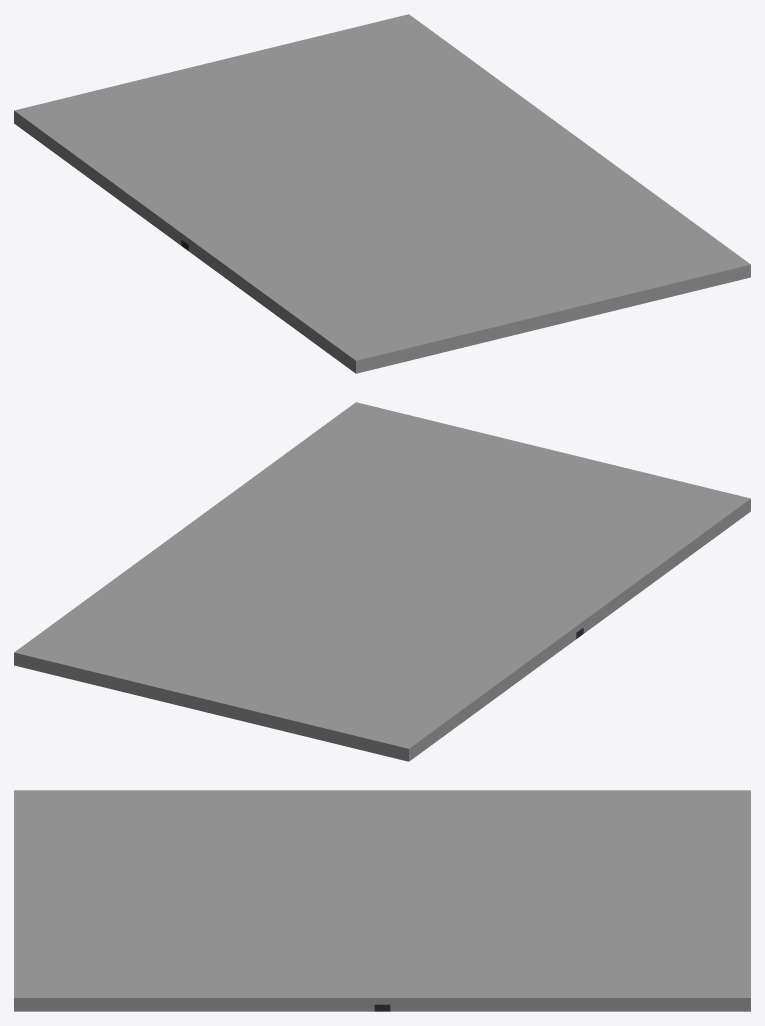
The model's file is outside_ceiling_lamp.obj.
3 views of the same model, one above another, from view 1: azimuth 30°, elevation 25°; view 2: azimuth 150°, elevation 25°; view 3: azimuth 270°, elevation 25° (orthographic). The views are drawn at different scales.
Size of the model in its own units: 6.4 by 0.4 by 9.6.
Materials: 1 (1 with a texture image).
